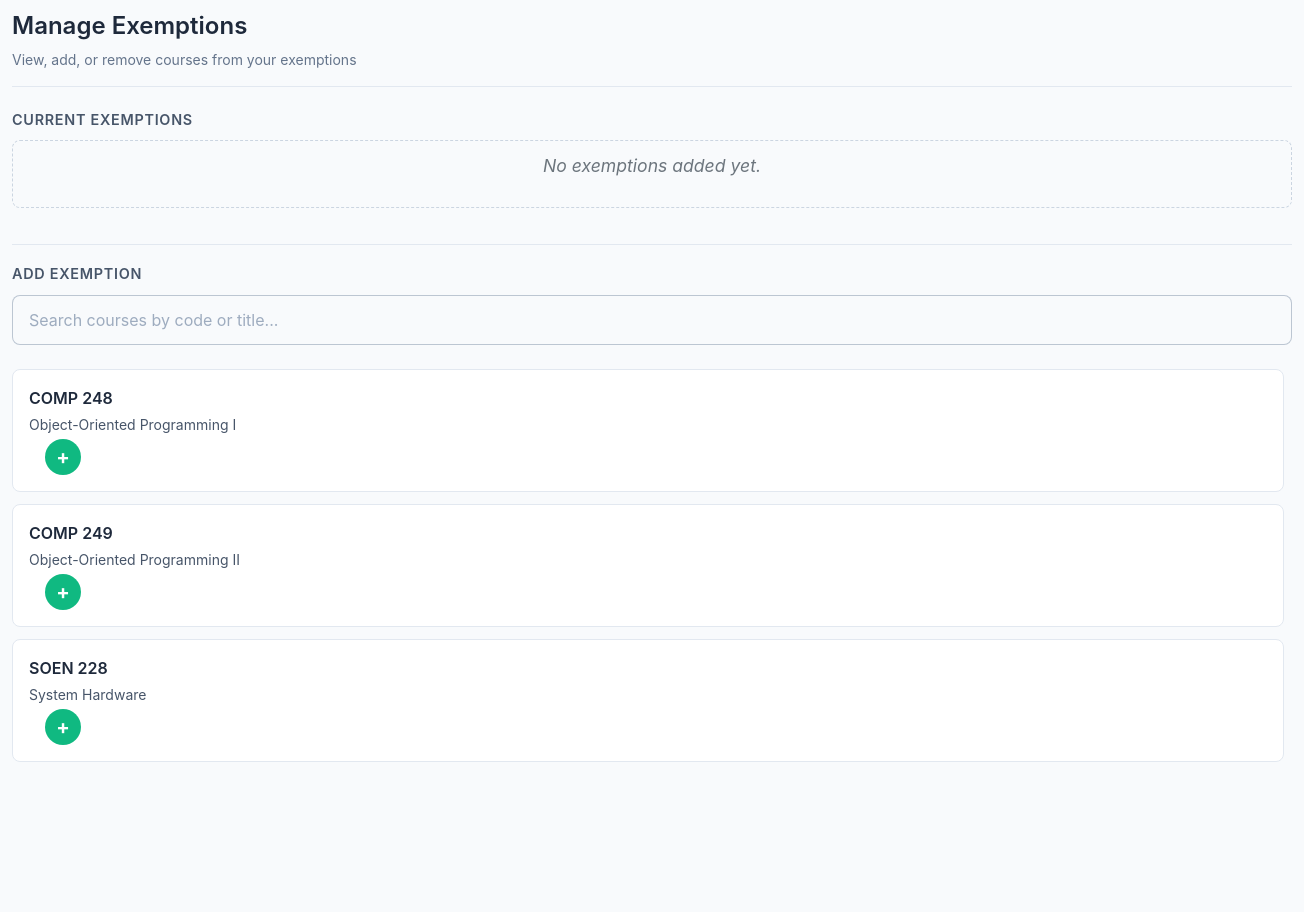
Scenario: ManageModal › shows 'no results' message when search has no matches
This screenshot has width=1304, height=912.
Type "XXXX" into the field with placeholder "Search courses by code or title..." at (652, 320), box [12,295,1292,345]
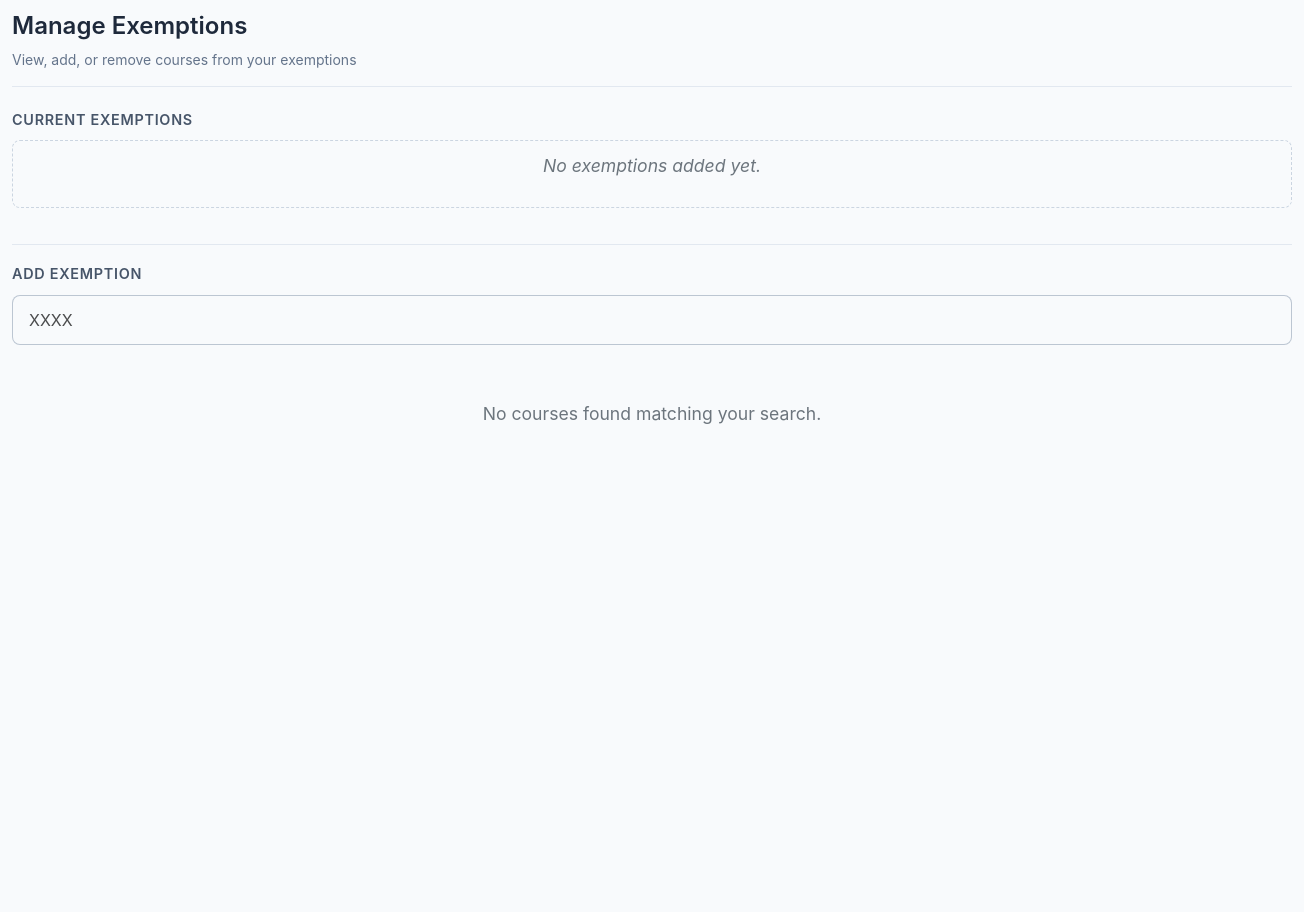
Expected: the text "No courses found matching your search." is shown, [483,401,821,427]
